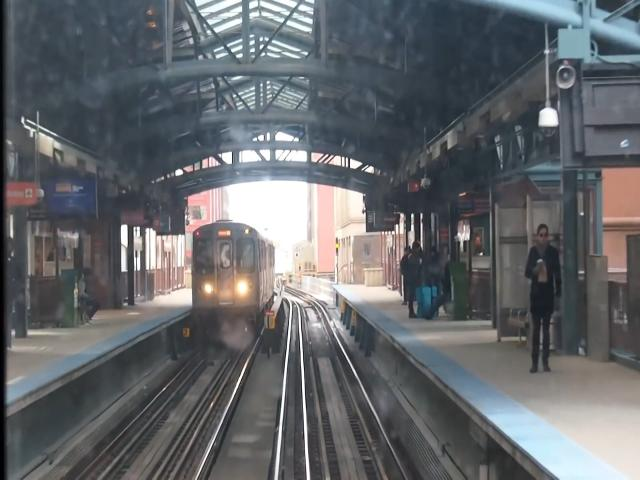signal light: (336, 237, 341, 258)
